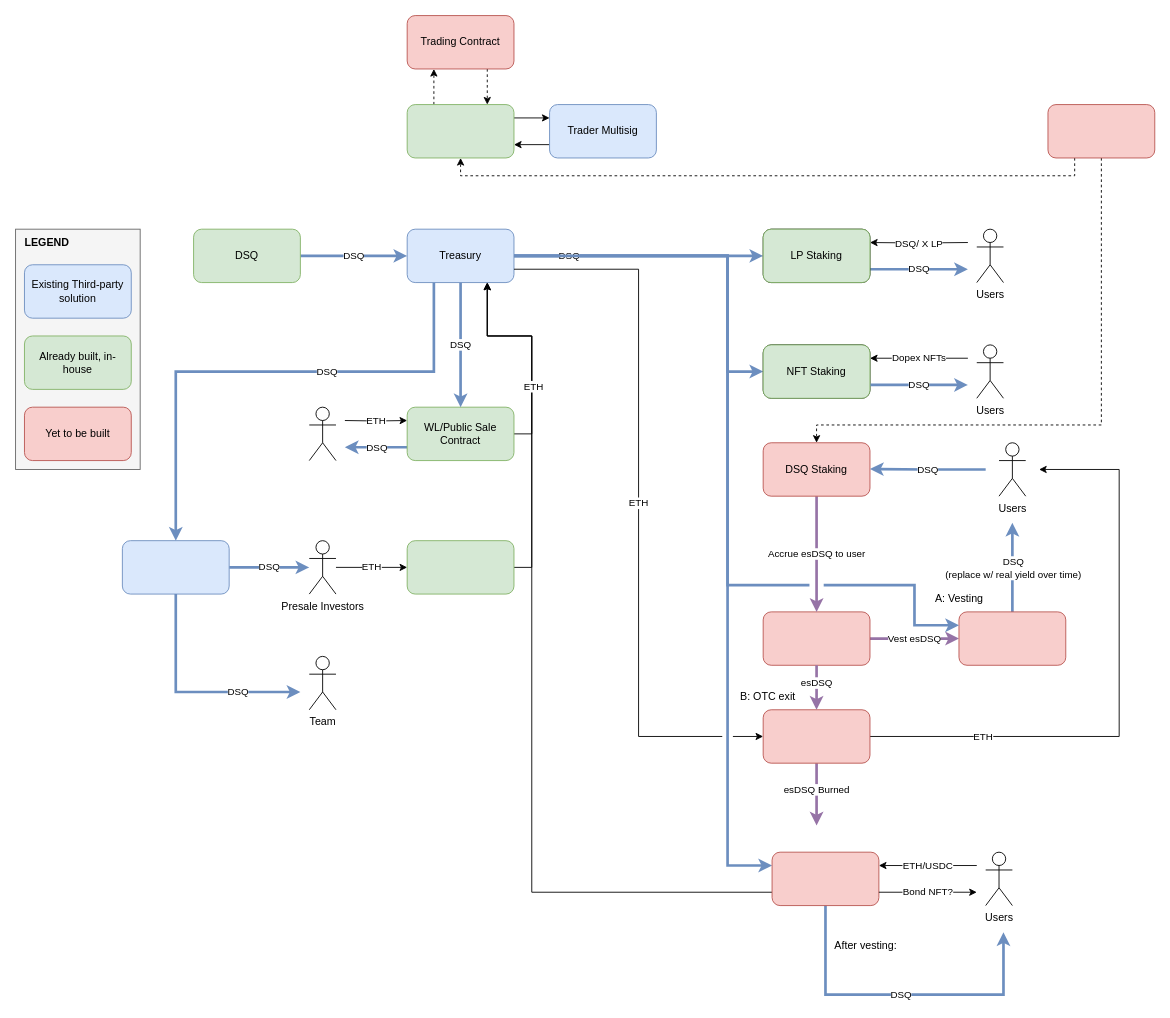
The diagram is 1170 pixels wide and 1018 high, and some of its shapes have lost their labels. The shapes that lost their labels are listed below. From the top down, each one's box as (x1, y1, x2, y2) in pixels, then its label:
(406, 104, 514, 158): Vault
(1047, 104, 1155, 158): Snapshot NFT Contract
(308, 406, 336, 461): Investors
(121, 540, 229, 594): Vesting Contracts
(406, 540, 514, 594): Private Contribution
(762, 611, 870, 665): Nontransferrable esDSQ
(958, 611, 1066, 665): esDSQ Staking
(762, 709, 870, 763): OTC Manager
(771, 851, 879, 906): Bonds
